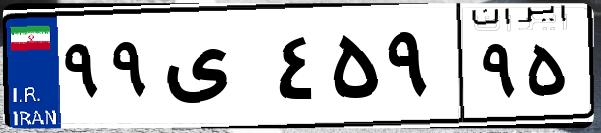4: (270, 28, 330, 110)
5: (330, 28, 385, 110), (525, 38, 570, 115)
9: (385, 28, 445, 110), (57, 26, 110, 100), (475, 38, 525, 113), (110, 28, 158, 98)
ی: (158, 20, 270, 120)
